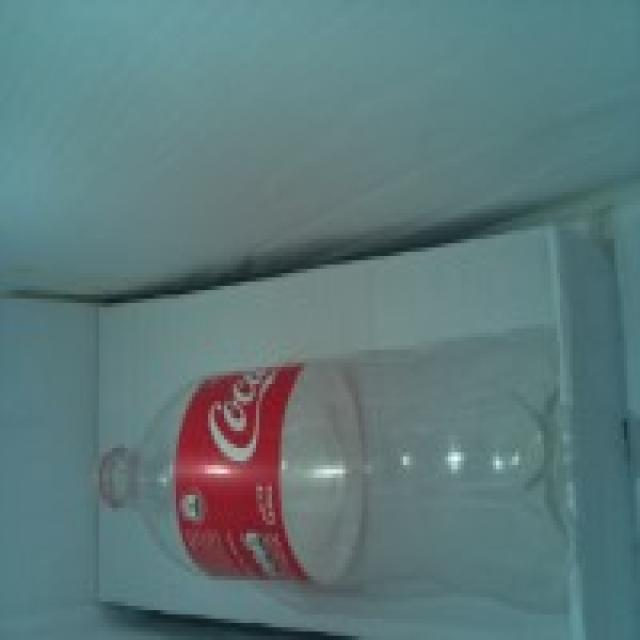Anorganik: (96, 324, 570, 614)
